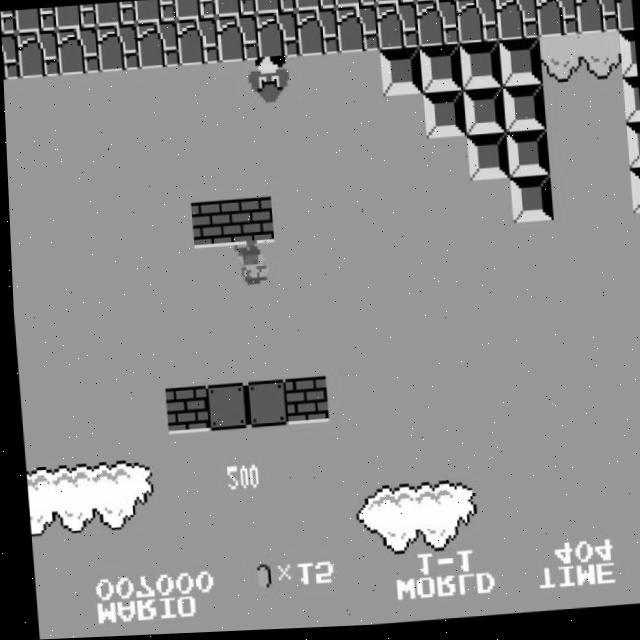1- brick_block: (188, 201, 232, 250), (228, 198, 272, 247), (280, 379, 325, 426), (161, 387, 205, 435)
11- little_mario: (224, 242, 270, 293)
17- undestructible_block: (15, 30, 60, 79), (55, 27, 100, 76), (95, 24, 140, 73), (135, 21, 180, 70), (175, 18, 220, 67), (215, 16, 260, 65), (255, 13, 299, 62), (295, 10, 339, 59), (335, 7, 379, 56), (375, 4, 419, 53), (415, 2, 459, 51), (455, 0, 499, 48), (495, 0, 539, 45), (534, 0, 579, 42), (574, 0, 619, 39), (14, 8, 57, 33), (54, 5, 97, 30), (94, 2, 137, 27), (134, 0, 177, 24), (174, 0, 216, 21), (1, 32, 19, 80), (214, 0, 256, 19), (614, 0, 633, 37), (254, 0, 296, 16), (293, 0, 336, 13), (333, 0, 376, 10), (0, 10, 16, 34), (373, 0, 416, 7), (413, 0, 456, 5), (453, 0, 496, 2)
3- empty_block: (240, 382, 285, 429), (201, 384, 245, 432)
8- goomba: (243, 57, 290, 109)
9- hard_block: (507, 179, 552, 228), (378, 50, 422, 99), (458, 45, 502, 94), (498, 42, 542, 91), (464, 137, 509, 184), (421, 93, 465, 141), (418, 48, 462, 96), (461, 91, 505, 139), (504, 134, 548, 182), (501, 88, 545, 136), (618, 35, 637, 82), (621, 81, 640, 127), (624, 127, 640, 173), (627, 172, 640, 219)
